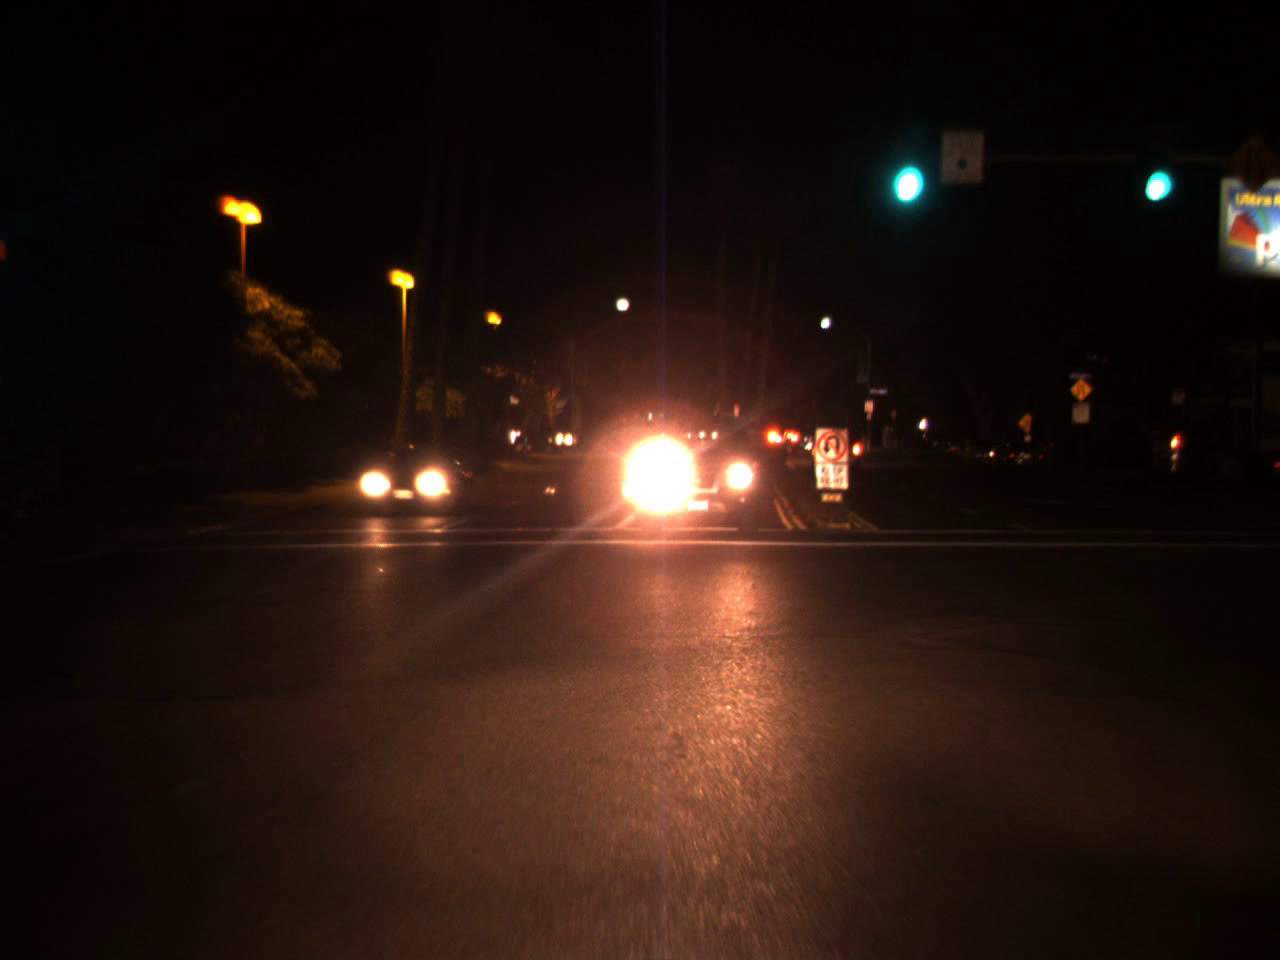go: (883, 127, 924, 214), (1137, 132, 1176, 213)
